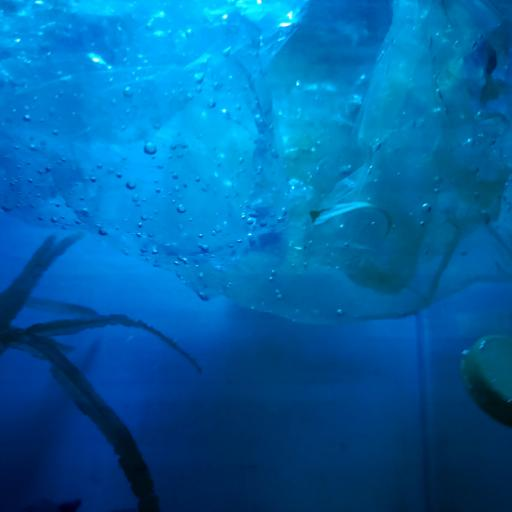bottle_cap: (460, 332, 512, 425)
plastic_bag: (0, 0, 512, 325)
